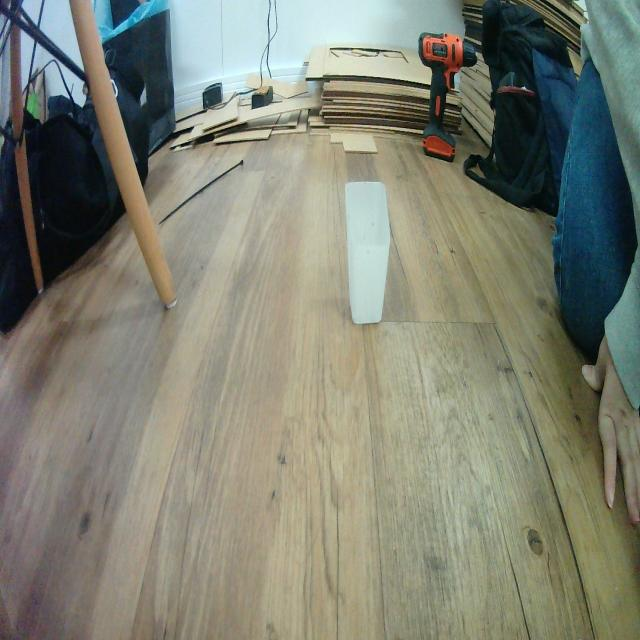erva_daninha: (344, 182, 392, 326)
